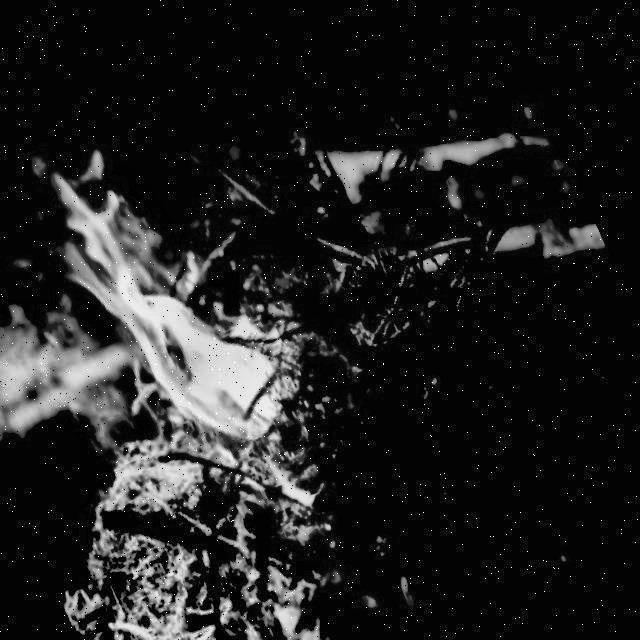Fire: (0, 65, 377, 555)
